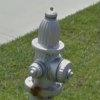Hydrant: (26, 4, 81, 100)
